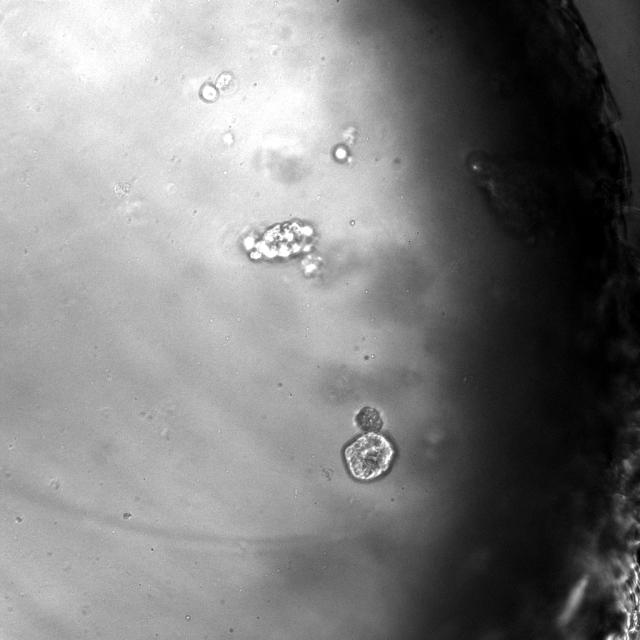organoid: (242, 218, 323, 277), (342, 405, 396, 482), (199, 72, 234, 103), (331, 143, 350, 163)
